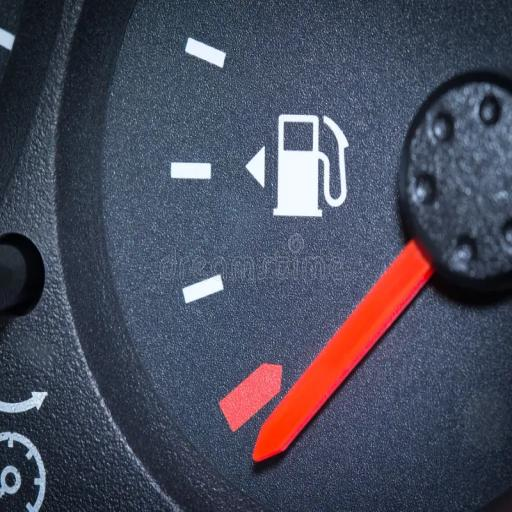fuel_icon: (273, 104, 360, 232)
guage_area: (62, 4, 512, 512)
needle_center: (386, 58, 512, 319)
needle_tip: (250, 421, 294, 471)
